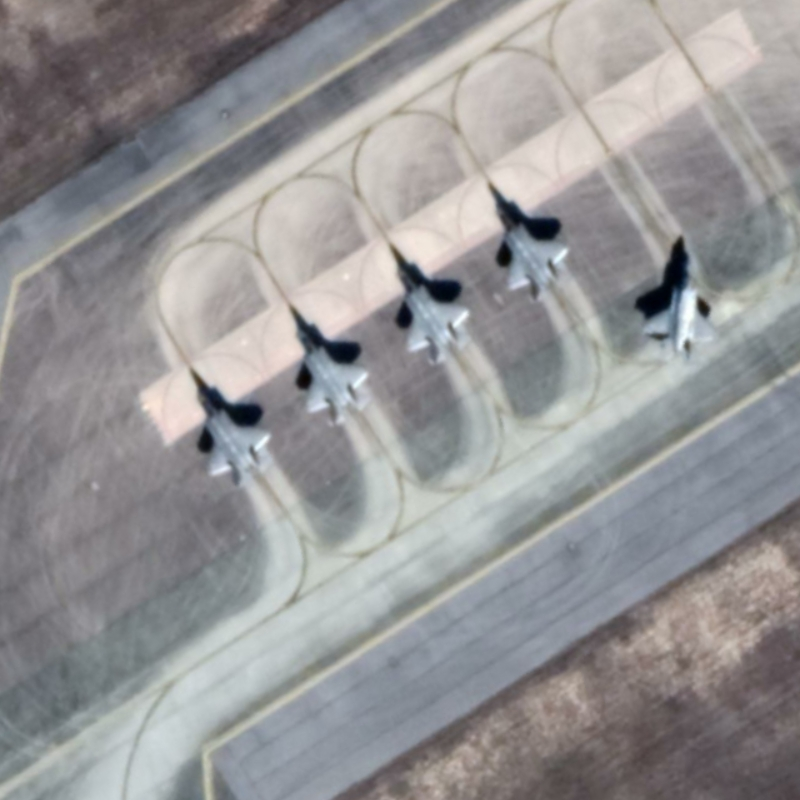A15: (630, 245, 726, 367), (487, 189, 577, 305), (389, 251, 477, 368), (288, 317, 373, 435), (190, 377, 276, 484)
